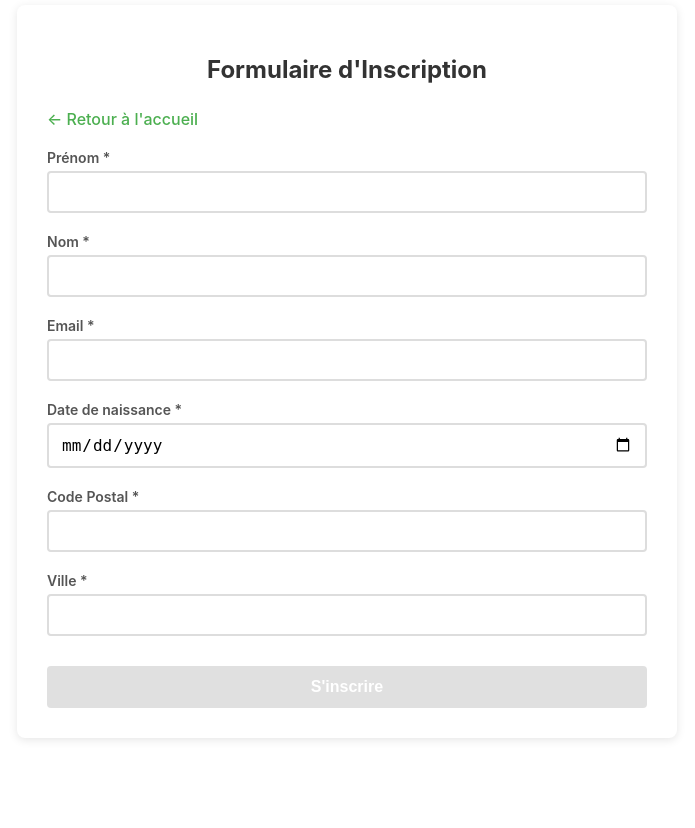
Test: RegistrationForm - Integration Tests › should display generic error message when API returns other error code (403)
Type "John" into the field labelled "Prénom *" at (347, 192), box [47,171,647,213]
Type "Doe" into the field labelled "Nom *" at (347, 276), box [47,255,647,297]
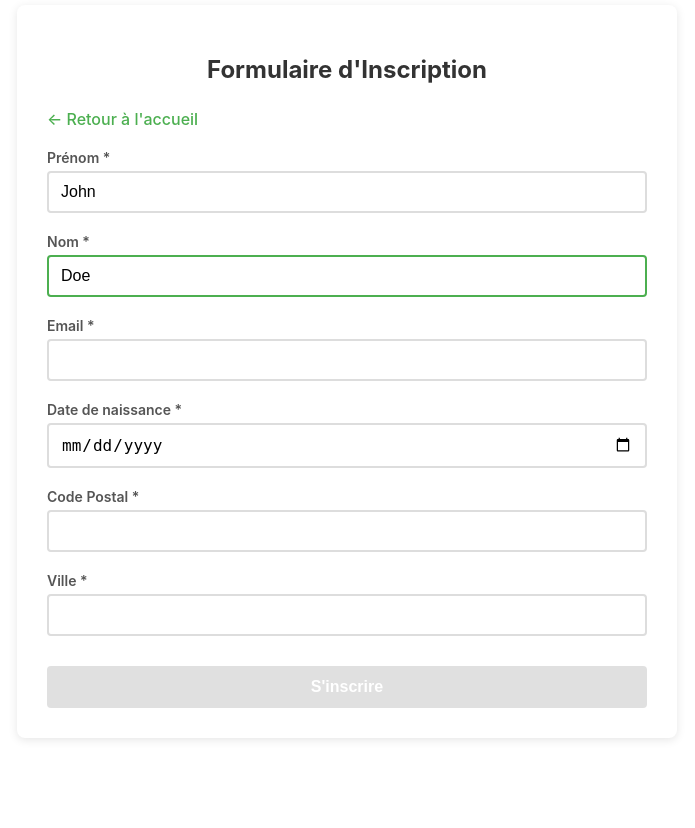
Type "test@example.com" into the field labelled "Email *" at (347, 360), box [47,339,647,381]
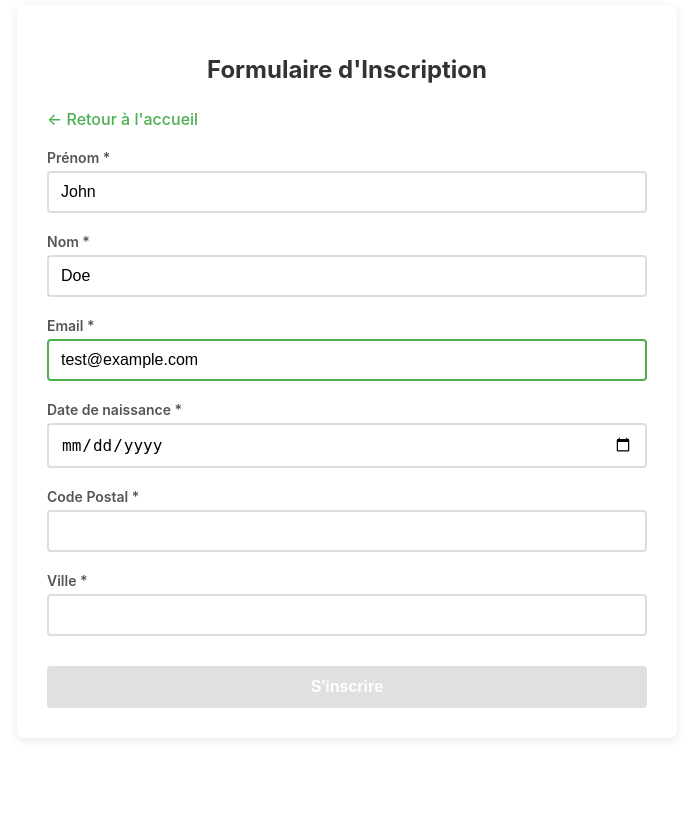
Type "1990-01-01" into the date field labelled "Date de naissance *" at (347, 445), box [47,423,647,468]
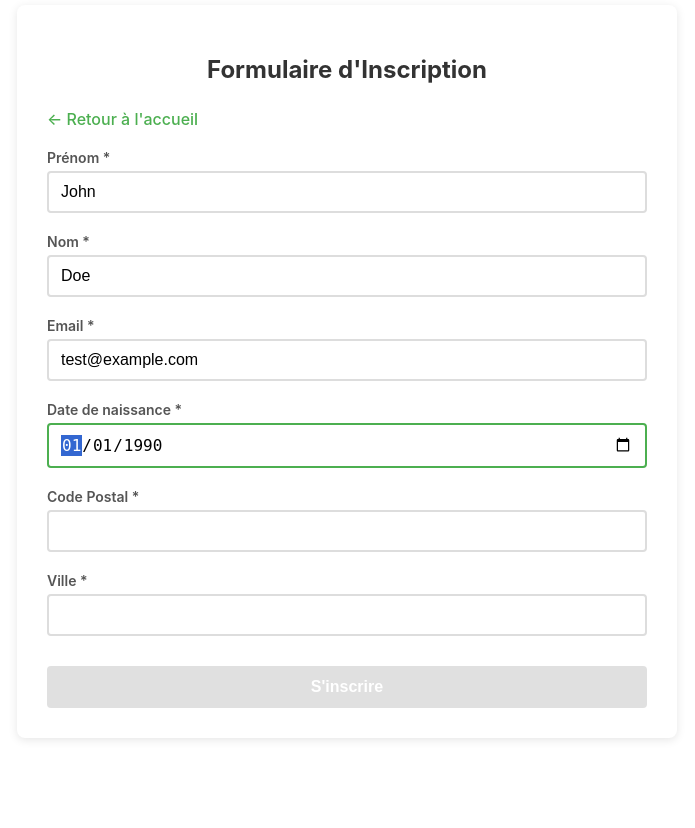
Type "75001" into the field labelled "Code Postal *" at (347, 531), box [47,510,647,552]
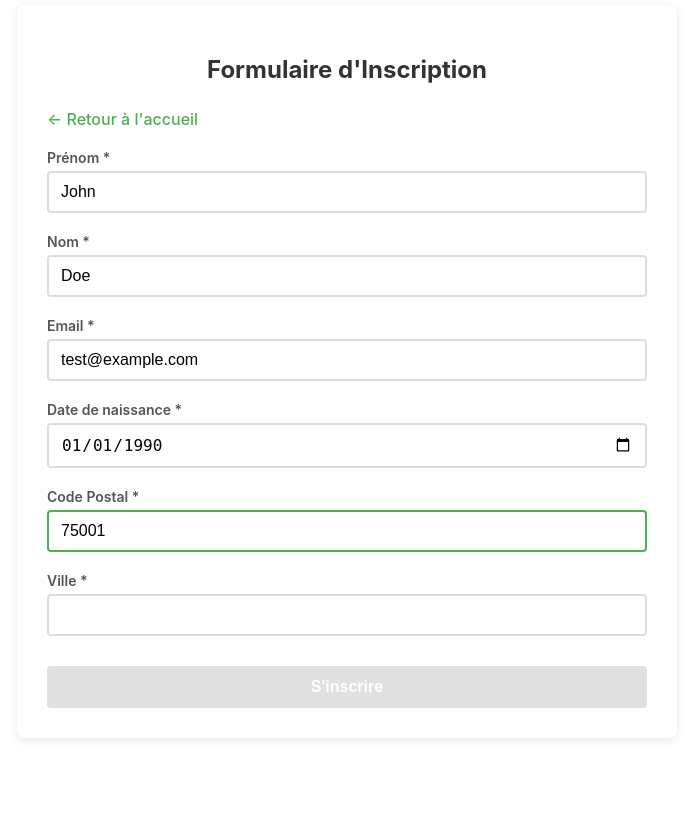
Type "Paris" into the field labelled "Ville *" at (347, 615), box [47,594,647,636]
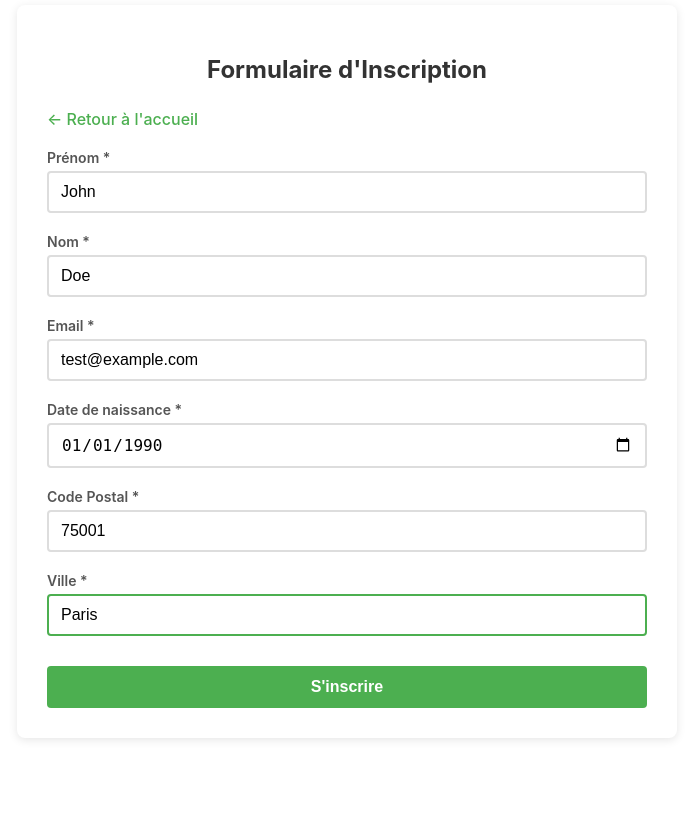
Expected: the button with test id "submit-button" is enabled
Click the button with test id "submit-button" at (347, 687), box [47,666,647,708]
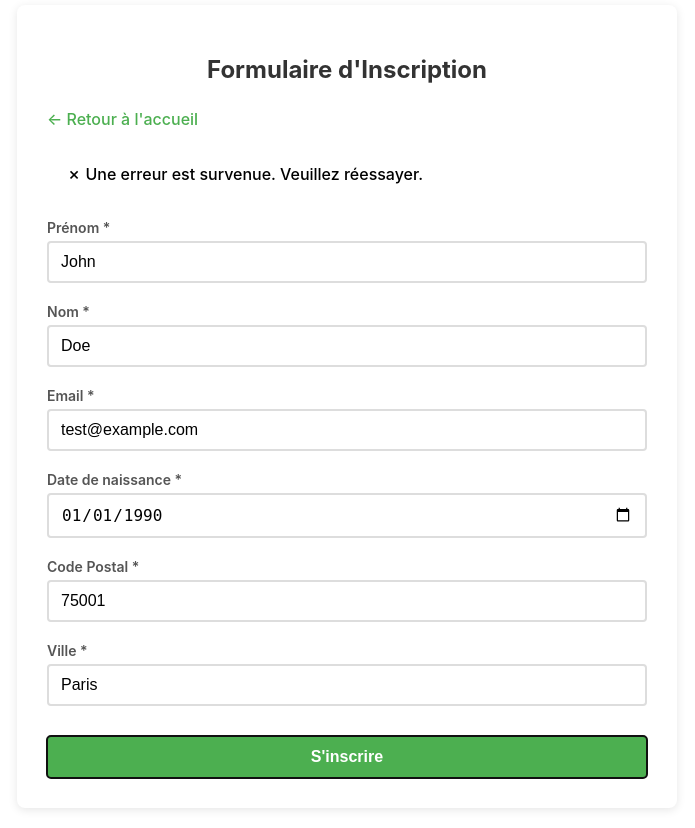
Expected: the text "✗ Une erreur est survenue. Veuillez réessayer." is shown, [67,164,423,184]
Expected: the text with test id "api-error-toaster" shows "Une erreur est survenue. Veuillez réessayer.", [85,164,423,184]
